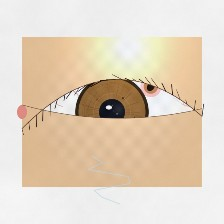foreign_body_visible: (127, 68, 175, 106)
